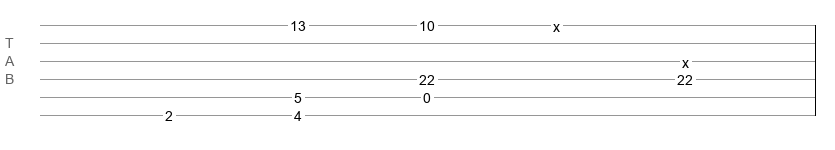0: (423, 90, 431, 100)
10: (419, 18, 435, 28)
13: (290, 18, 306, 28)
2: (165, 108, 173, 118)
22: (419, 72, 435, 82), (677, 72, 693, 82)
4: (294, 108, 302, 118)
5: (294, 90, 302, 100)
x: (553, 19, 560, 27), (682, 55, 689, 63)
